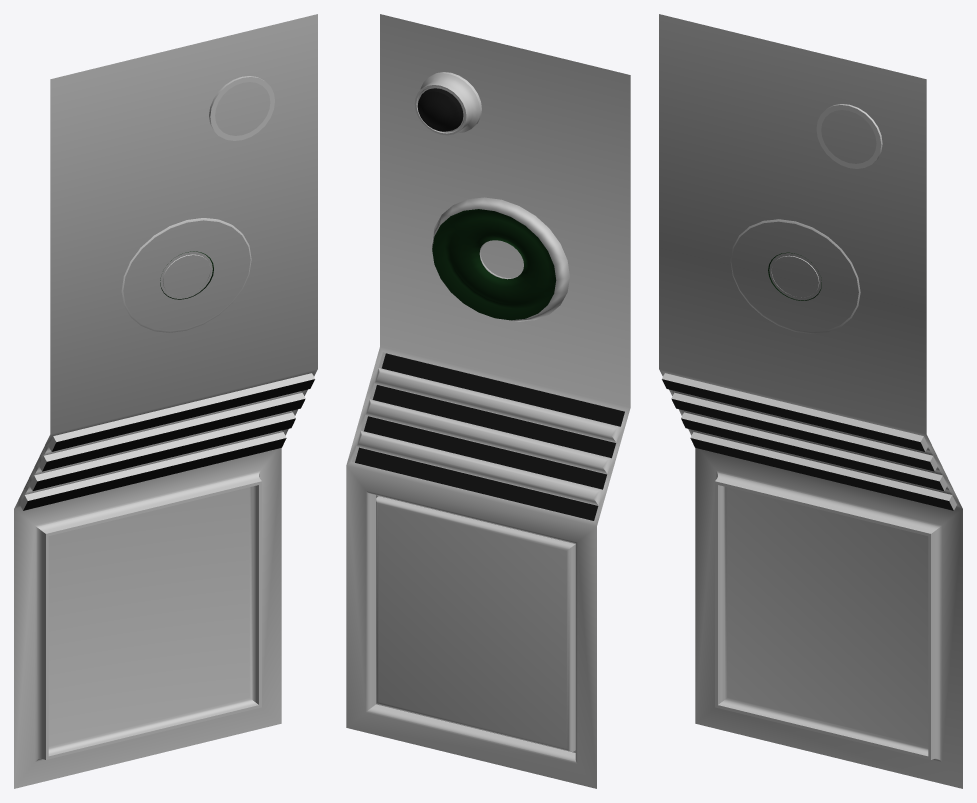
Rendered from Background_MetalWallwLights.fbx.
3 views of the same model, side by side, from view 1: azimuth 30°, elevation 25°; view 2: azimuth 150°, elevation 25°; view 3: azimuth 330°, elevation 25° (orthographic). The views are drawn at different scales.
Parts seen in each view (by area): view 1: Background_MetalWallwLights; view 2: Background_MetalWallwLights; view 3: Background_MetalWallwLights.
Part boxes in pixels (bbox=[...]): Background_MetalWallwLights: bbox=[14, 14, 317, 788]; Background_MetalWallwLights: bbox=[346, 14, 630, 788]; Background_MetalWallwLights: bbox=[659, 14, 962, 788].
Size of the model in its own units: 206 by 540 by 50.34.
